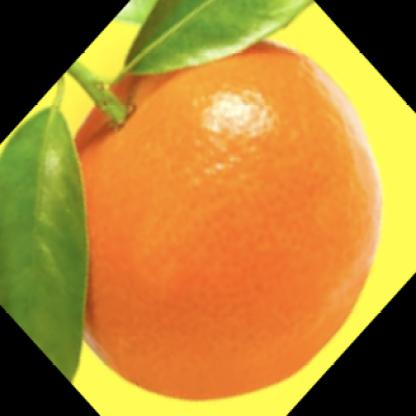fresh: (52, 34, 379, 401)
